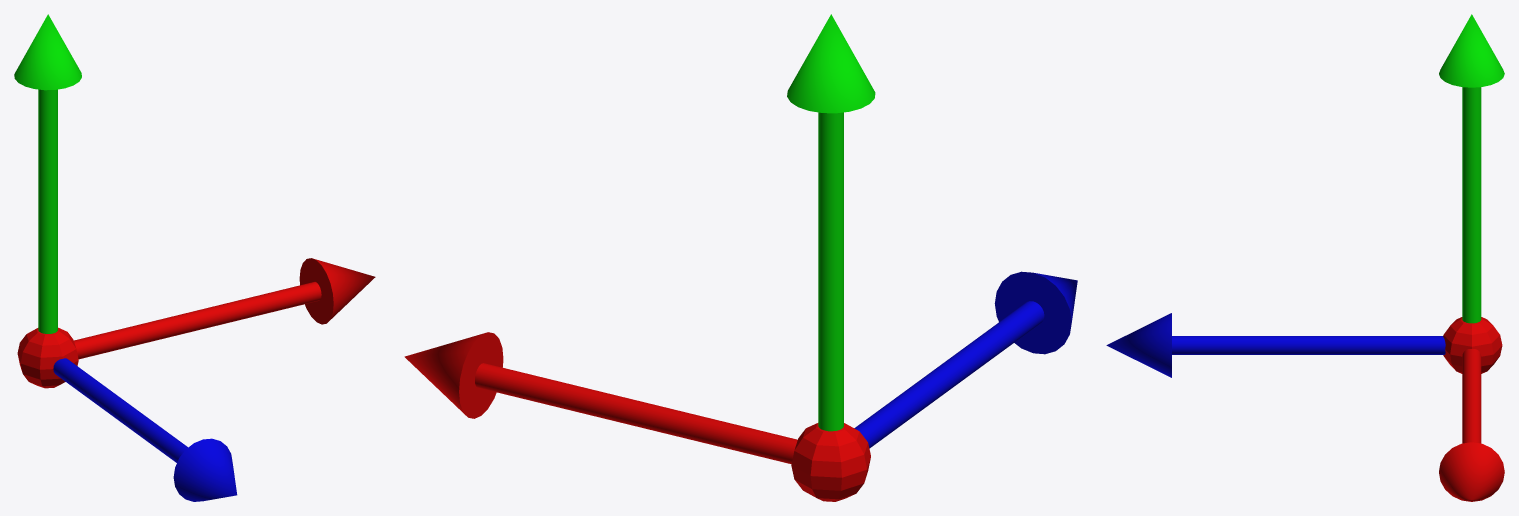
The model's file is Coordinate_Translate.fbx.
3 renders of one model, left to right at view 1: azimuth 30°, elevation 25°; view 2: azimuth 150°, elevation 25°; view 3: azimuth 270°, elevation 25°, orthographic. The views are drawn at different scales.
Parts seen in each view (by area): view 1: Coordinate_Translate; view 2: Coordinate_Translate; view 3: Coordinate_Translate.
Part boxes in pixels (left/top/right/bottom): Coordinate_Translate: left=14, top=14, right=375, bottom=501; Coordinate_Translate: left=404, top=14, right=1077, bottom=501; Coordinate_Translate: left=1106, top=14, right=1504, bottom=501.
Bounding box in the file's own units: 1.09 × 1.09 × 1.09.
